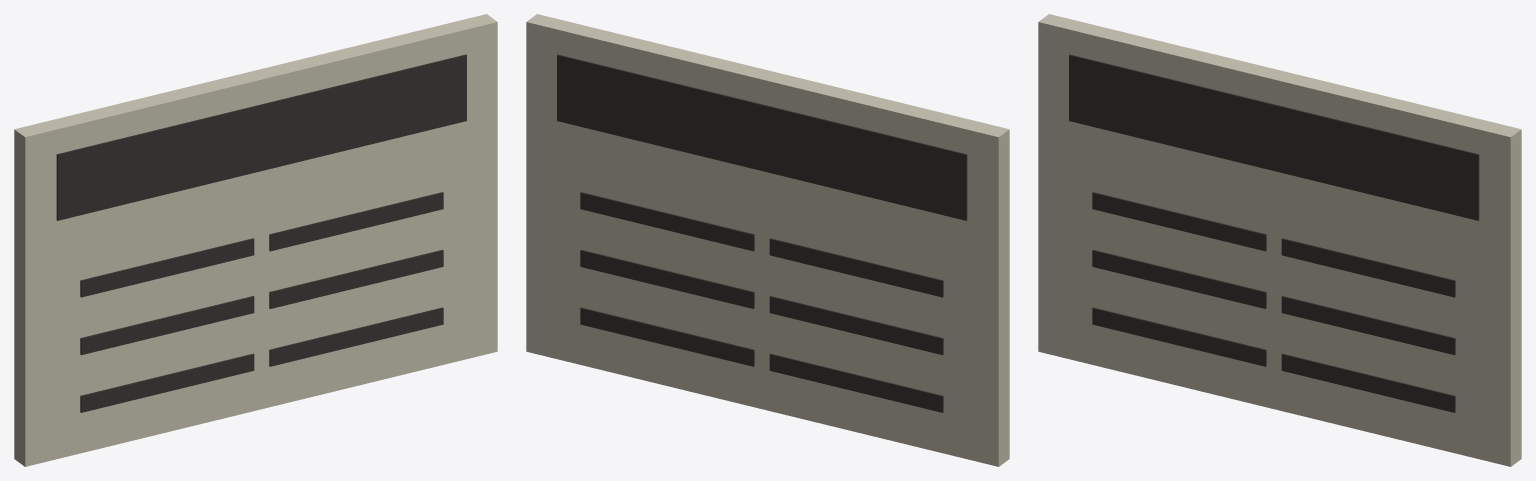
The model's file is prop_newspaper_open.fbx.
3 views of the same model, side by side, from view 1: azimuth 30°, elevation 25°; view 2: azimuth 150°, elevation 25°; view 3: azimuth 330°, elevation 25° (orthographic).
Visible parts, largest first — view 1: Prop_Newspaper_Newspaper.001, Prop_Newspaper_Mat_3b3a37.001; view 2: Prop_Newspaper_Newspaper.001, Prop_Newspaper_Mat_3b3a37.001; view 3: Prop_Newspaper_Newspaper.001, Prop_Newspaper_Mat_3b3a37.001.
Boxes of the visible parts, x1=… form: Prop_Newspaper_Newspaper.001: x1=14, y1=14, x2=497, y2=466; Prop_Newspaper_Mat_3b3a37.001: x1=56, y1=54, x2=466, y2=412; Prop_Newspaper_Newspaper.001: x1=526, y1=14, x2=1009, y2=466; Prop_Newspaper_Mat_3b3a37.001: x1=557, y1=54, x2=967, y2=412; Prop_Newspaper_Newspaper.001: x1=1038, y1=14, x2=1521, y2=466; Prop_Newspaper_Mat_3b3a37.001: x1=1069, y1=54, x2=1479, y2=412.
Bounding box in the file's own units: 0.3 × 0.2 × 0.014.
